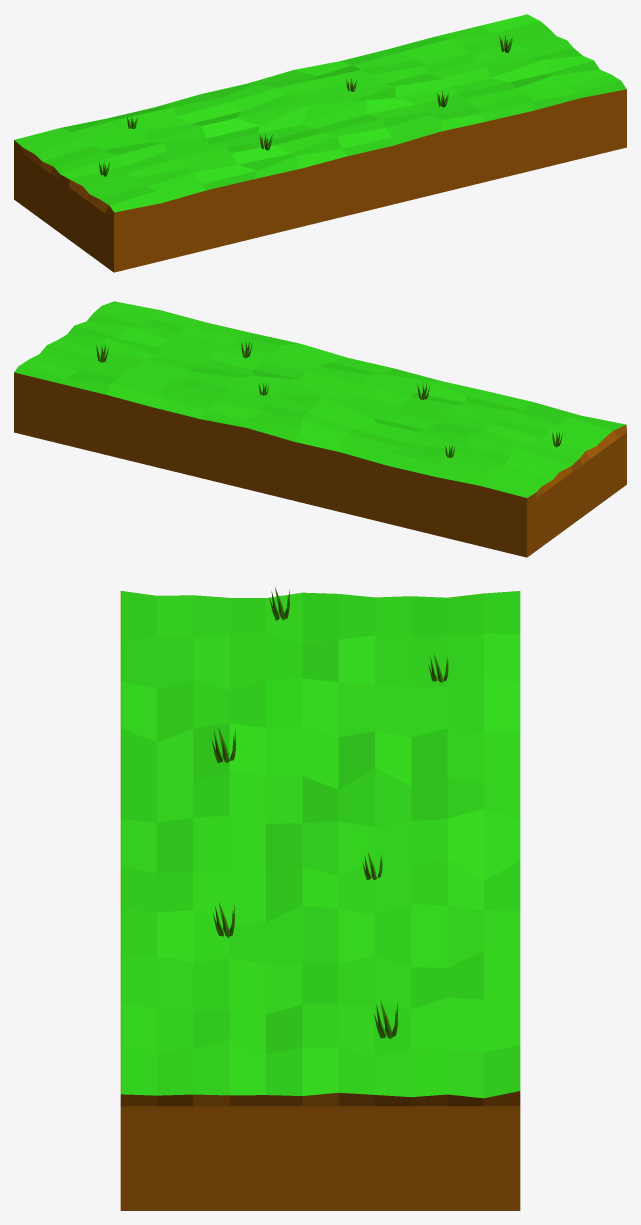
The model's file is ground3.fbx.
3 renders of one model, top to bottom at view 1: azimuth 30°, elevation 25°; view 2: azimuth 150°, elevation 25°; view 3: azimuth 270°, elevation 25°, orthographic. The views are drawn at different scales.
Parts seen in each view (by area): view 1: Plane; view 2: Plane; view 3: Plane.
Boxes of the visible parts, <box> form: Plane: <box>14,14,626,272</box>; Plane: <box>14,301,626,557</box>; Plane: <box>120,591,520,1210</box>.
Size of the model in its own units: 3500 by 493 by 1169.
